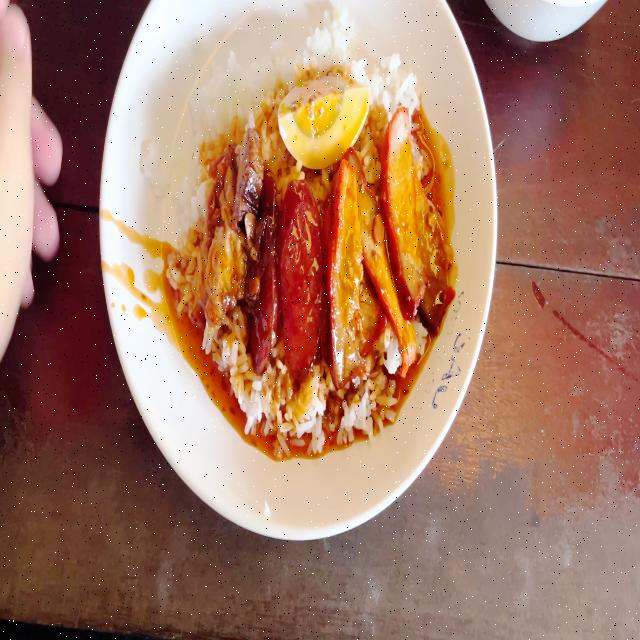boiled_egg: (284, 84, 364, 150)
chainese_sausage: (255, 180, 318, 351)
crispy_pork: (211, 143, 259, 310)
red_pork: (333, 124, 426, 341)
red_pork_and_crispy_pork: (177, 33, 459, 427)
rice: (243, 375, 382, 445), (192, 40, 288, 139), (174, 154, 209, 300), (300, 10, 351, 72), (206, 322, 252, 385), (369, 58, 416, 114)
